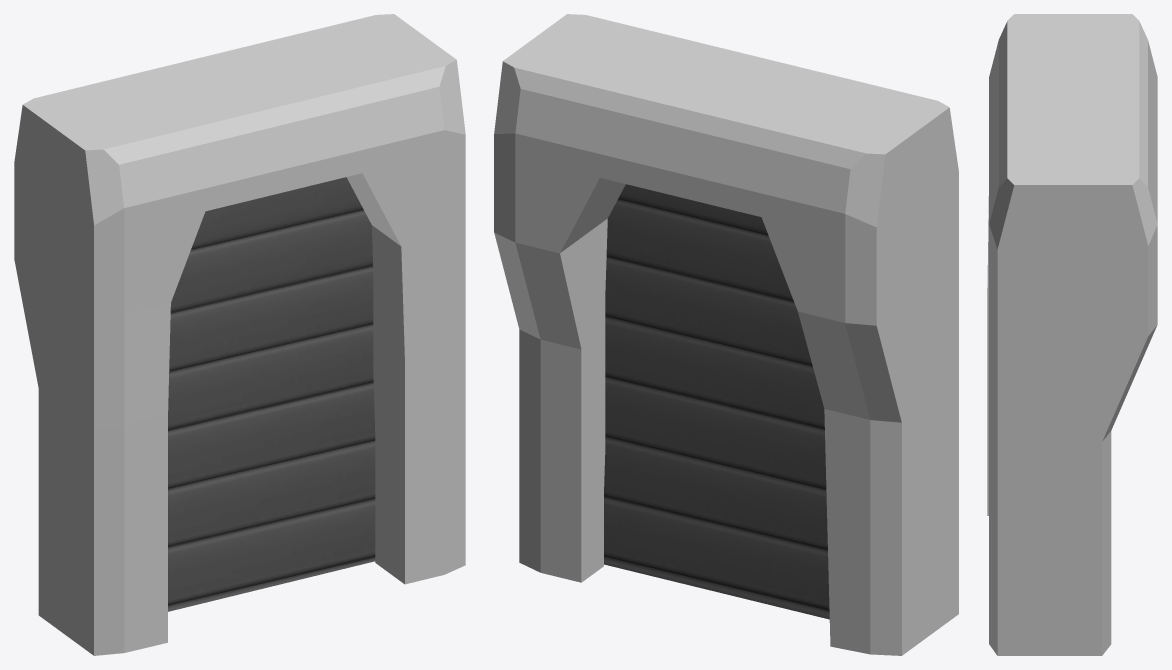
The model's file is Shutter door.fbx.
The picture shows the model from 3 angles, left to right: view 1: azimuth 30°, elevation 25°; view 2: azimuth 150°, elevation 25°; view 3: azimuth 270°, elevation 25°; orthographic projection. The views are drawn at different scales.
Parts seen in each view (by area): view 1: Cube.012, Cube.023; view 2: Cube.012, Cube.023; view 3: Cube.012.
Boxes of the visible parts, <box> form: Cube.012: <box>14,14,465,655</box>; Cube.023: <box>168,177,375,611</box>; Cube.012: <box>494,14,958,655</box>; Cube.023: <box>604,184,829,619</box>; Cube.012: <box>987,14,1157,655</box>.
Size of the model in its own units: 466 by 601 by 196.
Materials: 1 (1 with a texture image).
